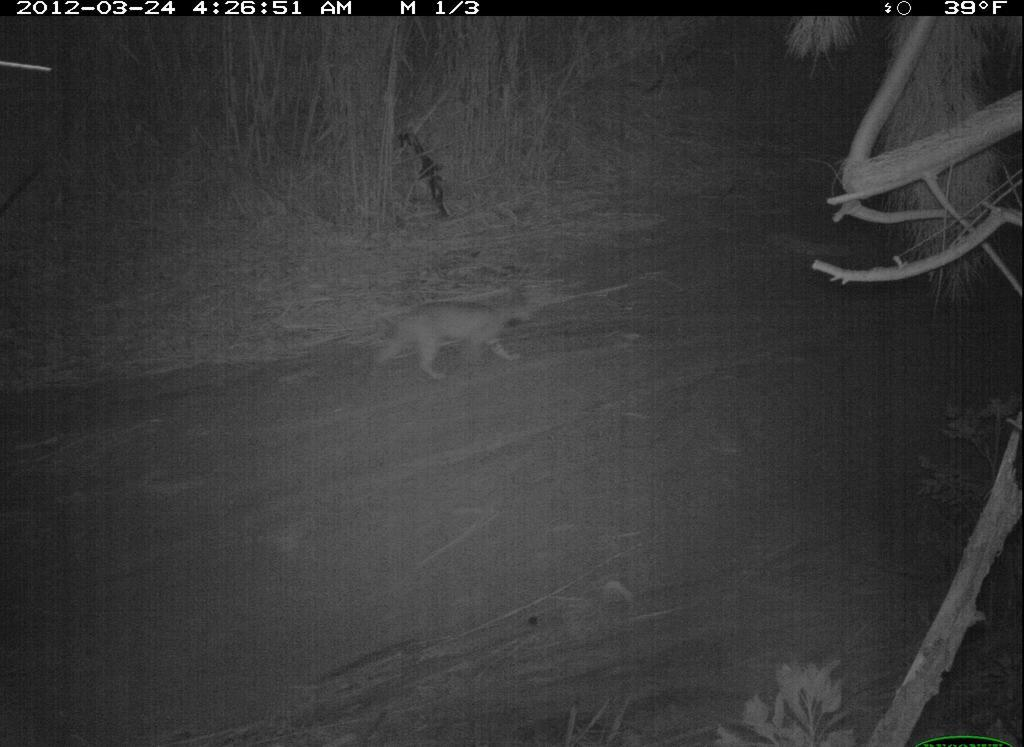bobcat: (353, 276, 562, 394)
